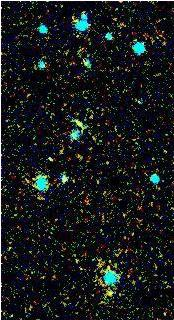star: (96, 279, 126, 309)
